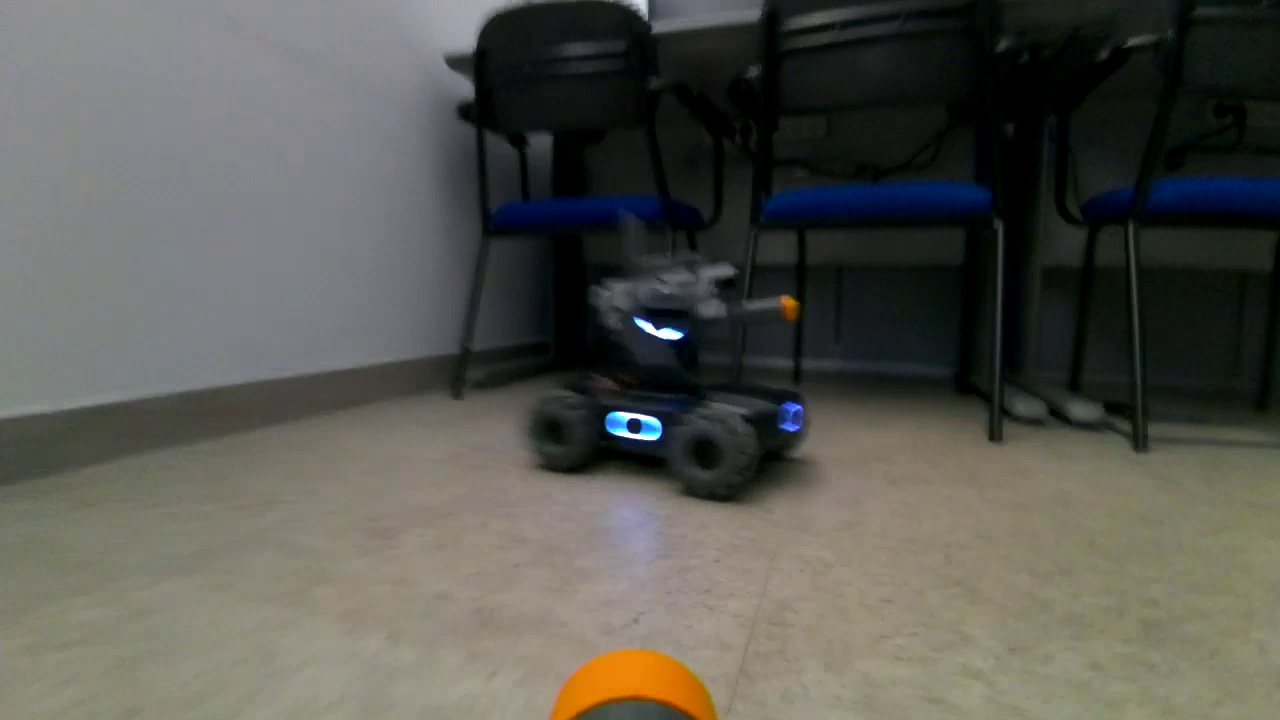robot: (517, 203, 817, 499)
